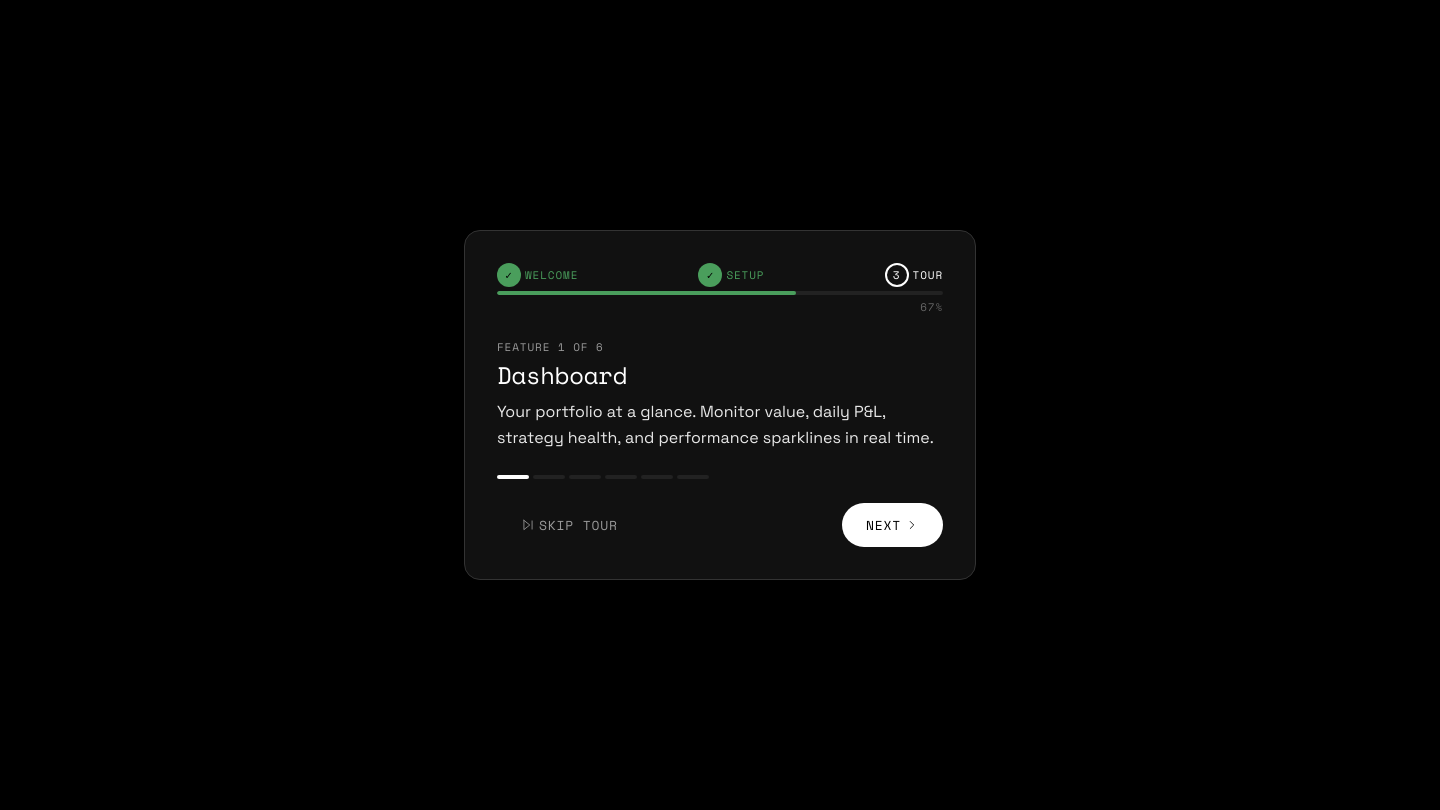
Scenario: FeatureTour › navigates to next feature
Click the button "NEXT" at [892, 525], box top-left (842, 503), bottom-right (943, 547)
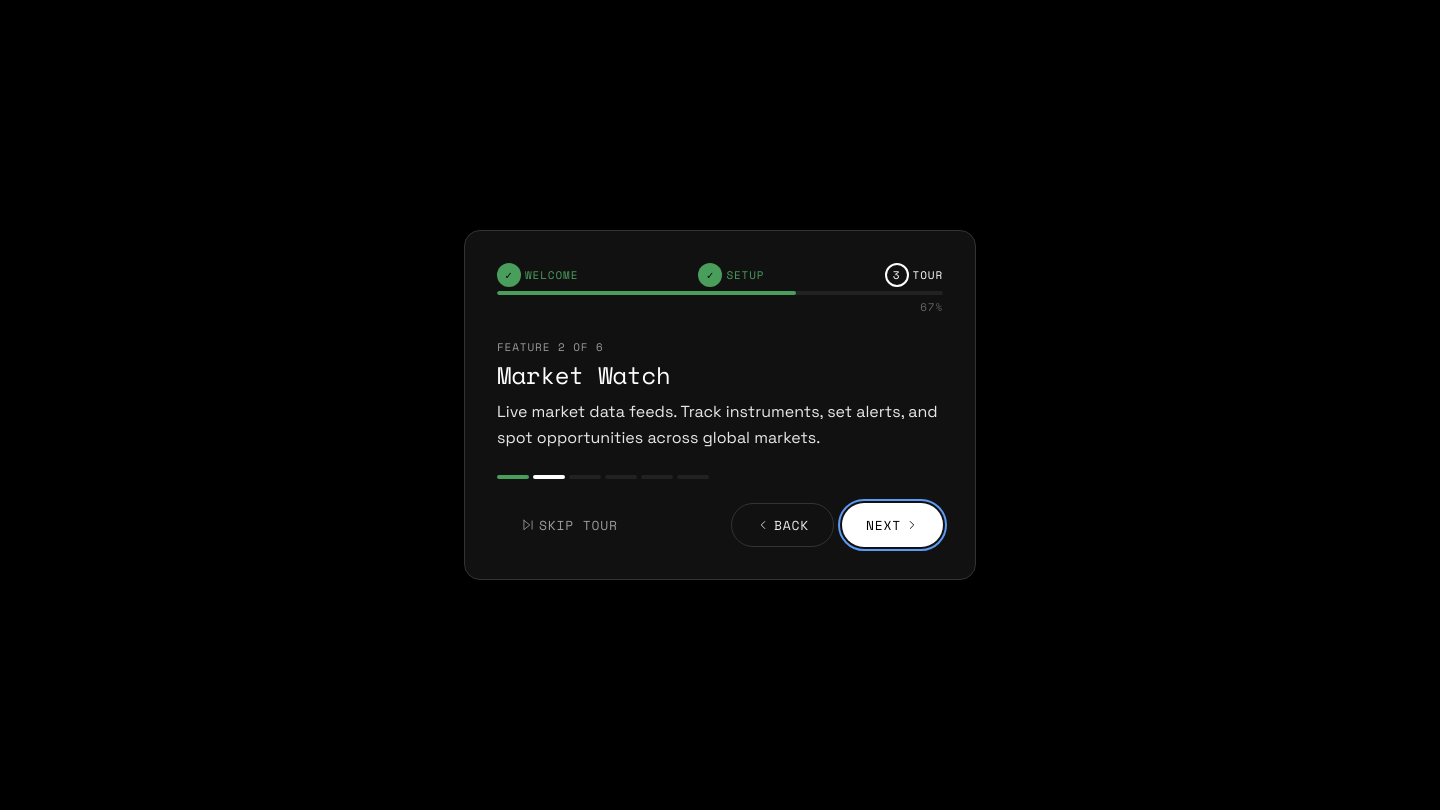
Expected: the text "FEATURE 2 OF 6" is shown, top-left (497, 339), bottom-right (604, 355)
Expected: the heading "Market Watch" is shown, top-left (497, 357), bottom-right (670, 393)
